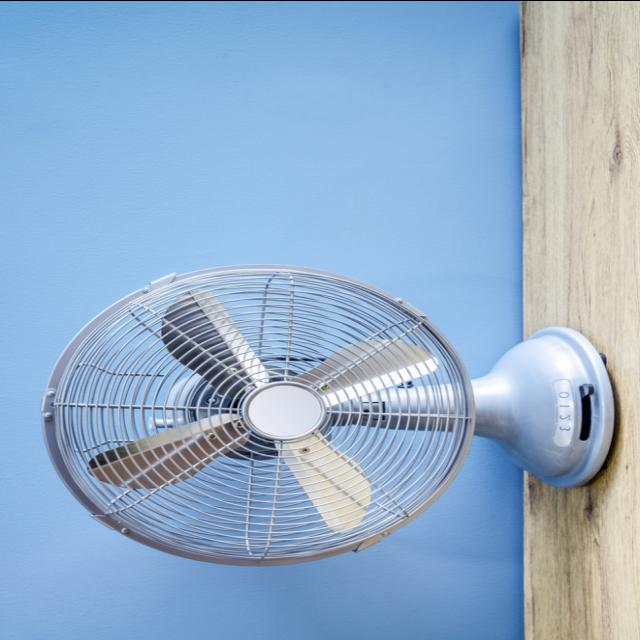fan: (39, 262, 624, 568)
